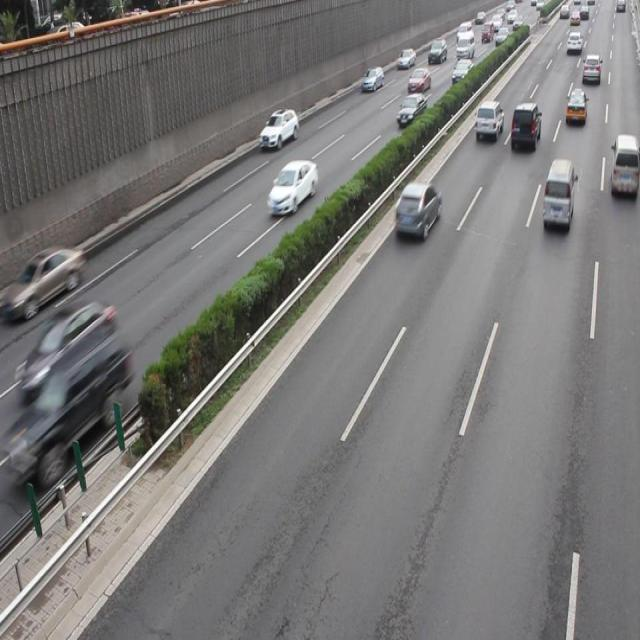car: (28, 330, 131, 472), (29, 300, 114, 390), (17, 243, 84, 314), (266, 158, 318, 215), (393, 181, 441, 239), (258, 107, 298, 149), (509, 103, 540, 149), (472, 100, 503, 142), (394, 94, 426, 126), (564, 88, 585, 125)
truck: (540, 157, 572, 227), (610, 134, 640, 198)
